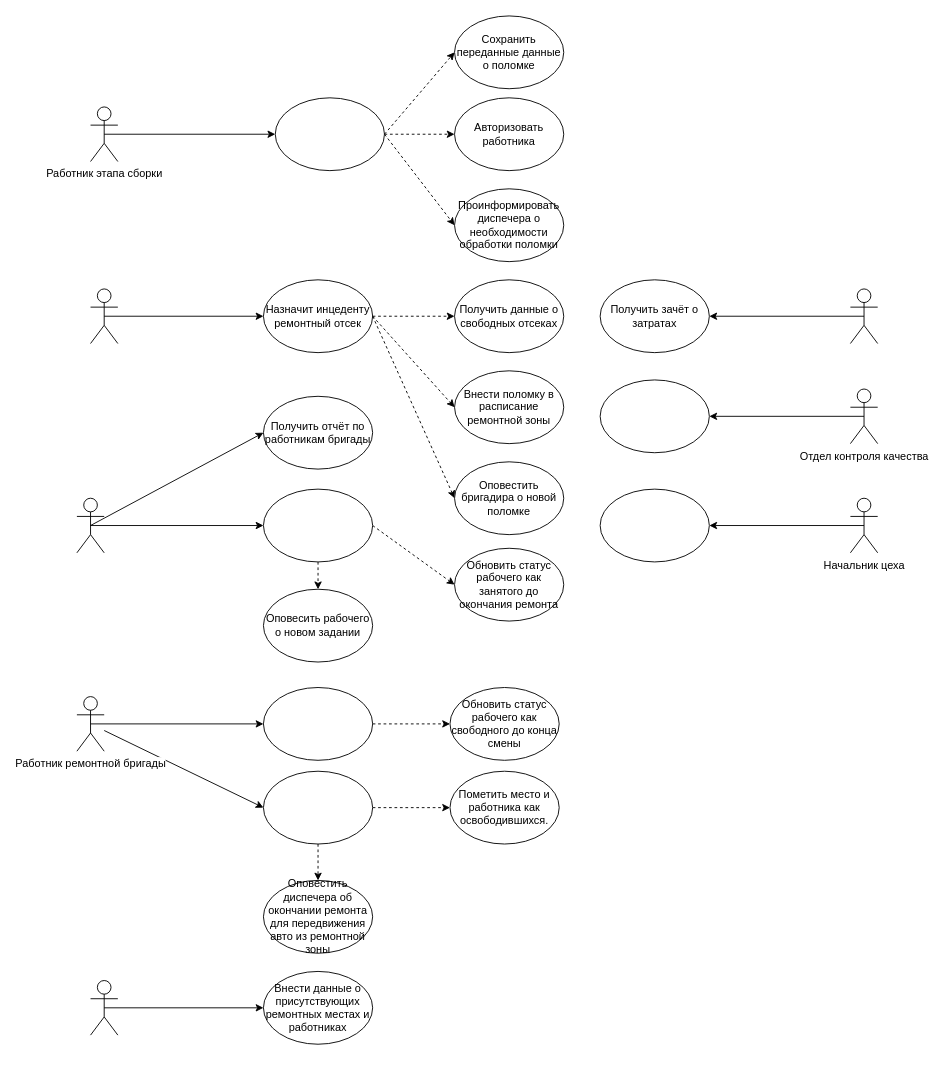
Some shapes in this 944 by 1070 pixel diagram are drawn without their labels. The centre of each missing label's shape, as x and y in pixels:
"Бригадир" belongs at pixel 90 525.
"Бухгалтерия" belongs at pixel 863 316.
"Диспечер" belongs at pixel 104 316.
"Занести себя как свободного рабочего в момент начала смены" belongs at pixel 318 723.
"Зарегистрировать инцидент как требующий исполнения" belongs at pixel 329 134.
"Зарегистрировать начало/конец ремонта" belongs at pixel 318 807.
"Назначить свободному рабочему ремонт" belongs at pixel 318 525.
"Получить отчёт о качестве" belongs at pixel 654 416.
"Получить отчёт со статистикой о функционировании завода" belongs at pixel 654 525.
"Сисадмин завода" belongs at pixel 104 1007.
